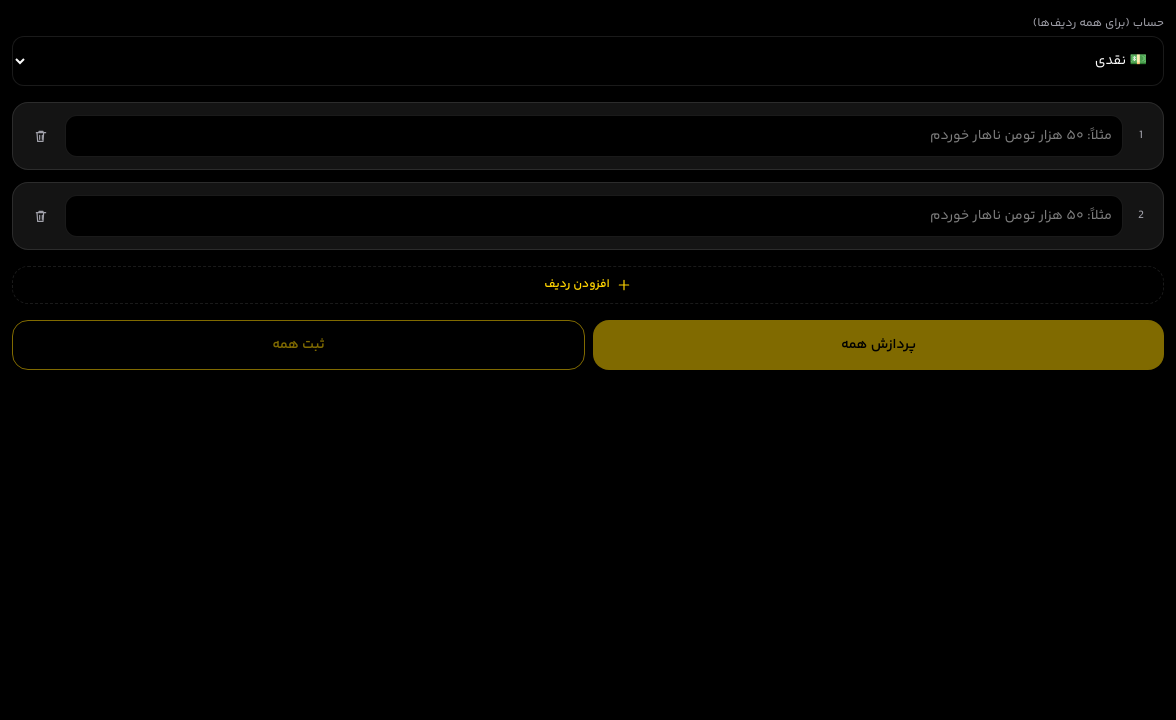
Test: BatchAddTransactionForm - parsing › parses multiple lines and shows a per-row error for the one that fails, without blocking the other
Type "۵۰ هزار تومن قهوه خوردم" into the 1st field with placeholder "مثلاً: ۵۰ هزار تومن ناهار خوردم".
click(594, 136); type("۵۰ هزار تومن قهوه خوردم")  # box [65,115,1123,157]
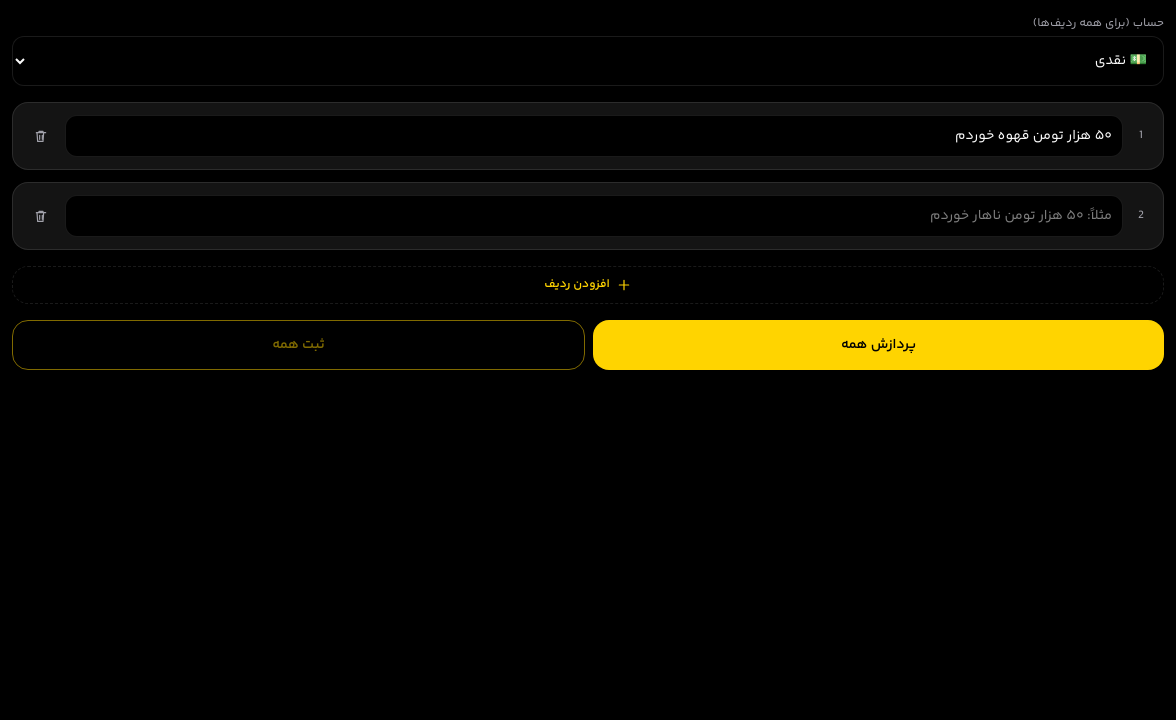
Type "این خط قرار است خطا بدهد" into the field with placeholder "مثلاً: ۵۰ هزار تومن ناهار خوردم".
click(594, 216); type("این خط قرار است خطا بدهد")  # box [65,195,1123,237]
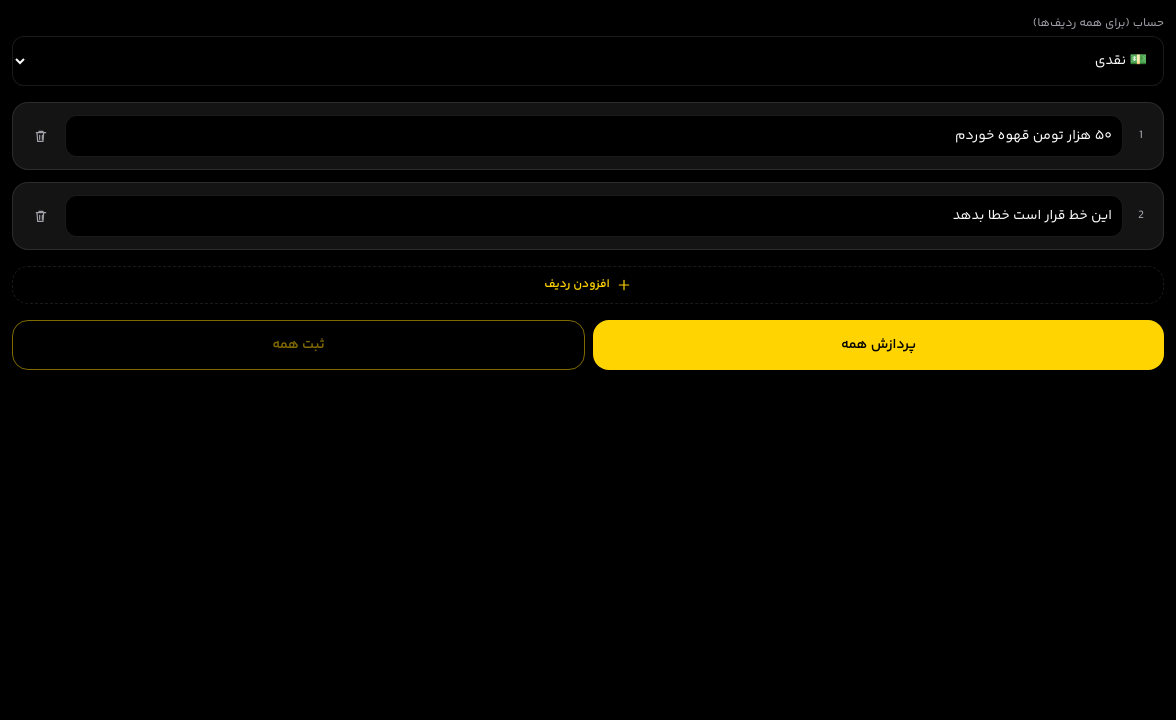
Click the button "پردازش همه".
click(878, 345)  # box [593,320,1164,370]
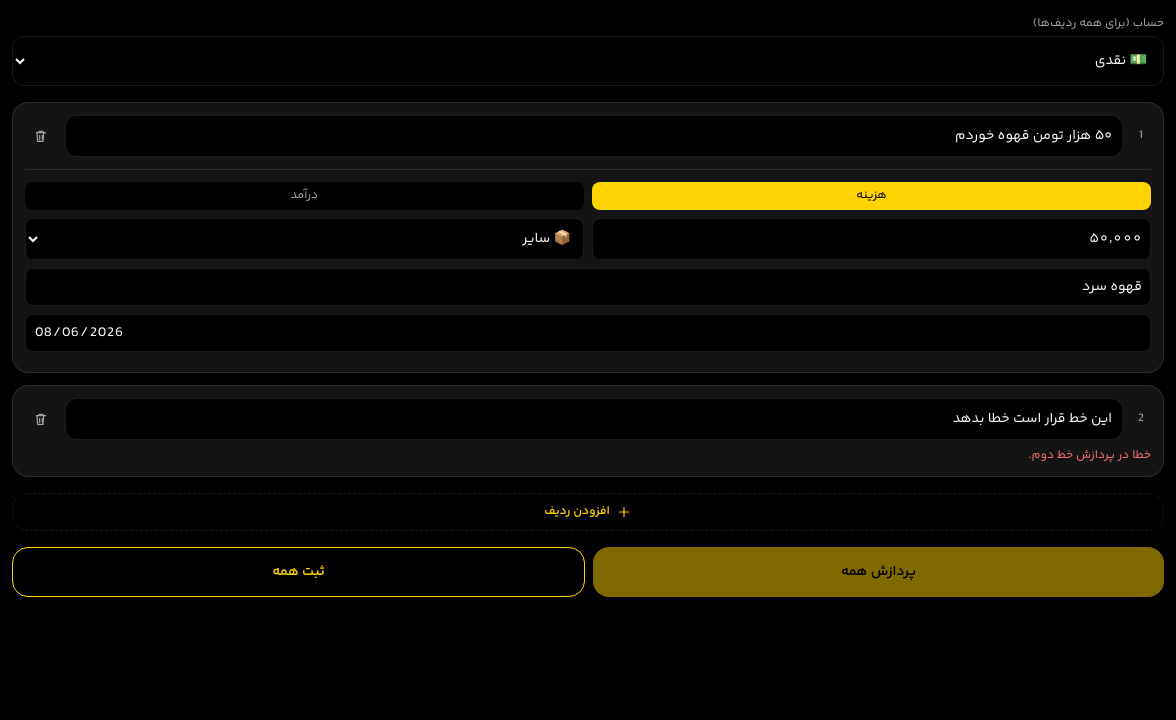
Expected: the 3rd field showing "قهوه سرد" is shown, [25,268,1151,306]
Expected: the text "خطا در پردازش خط دوم." is shown, [1028,446,1151,465]
